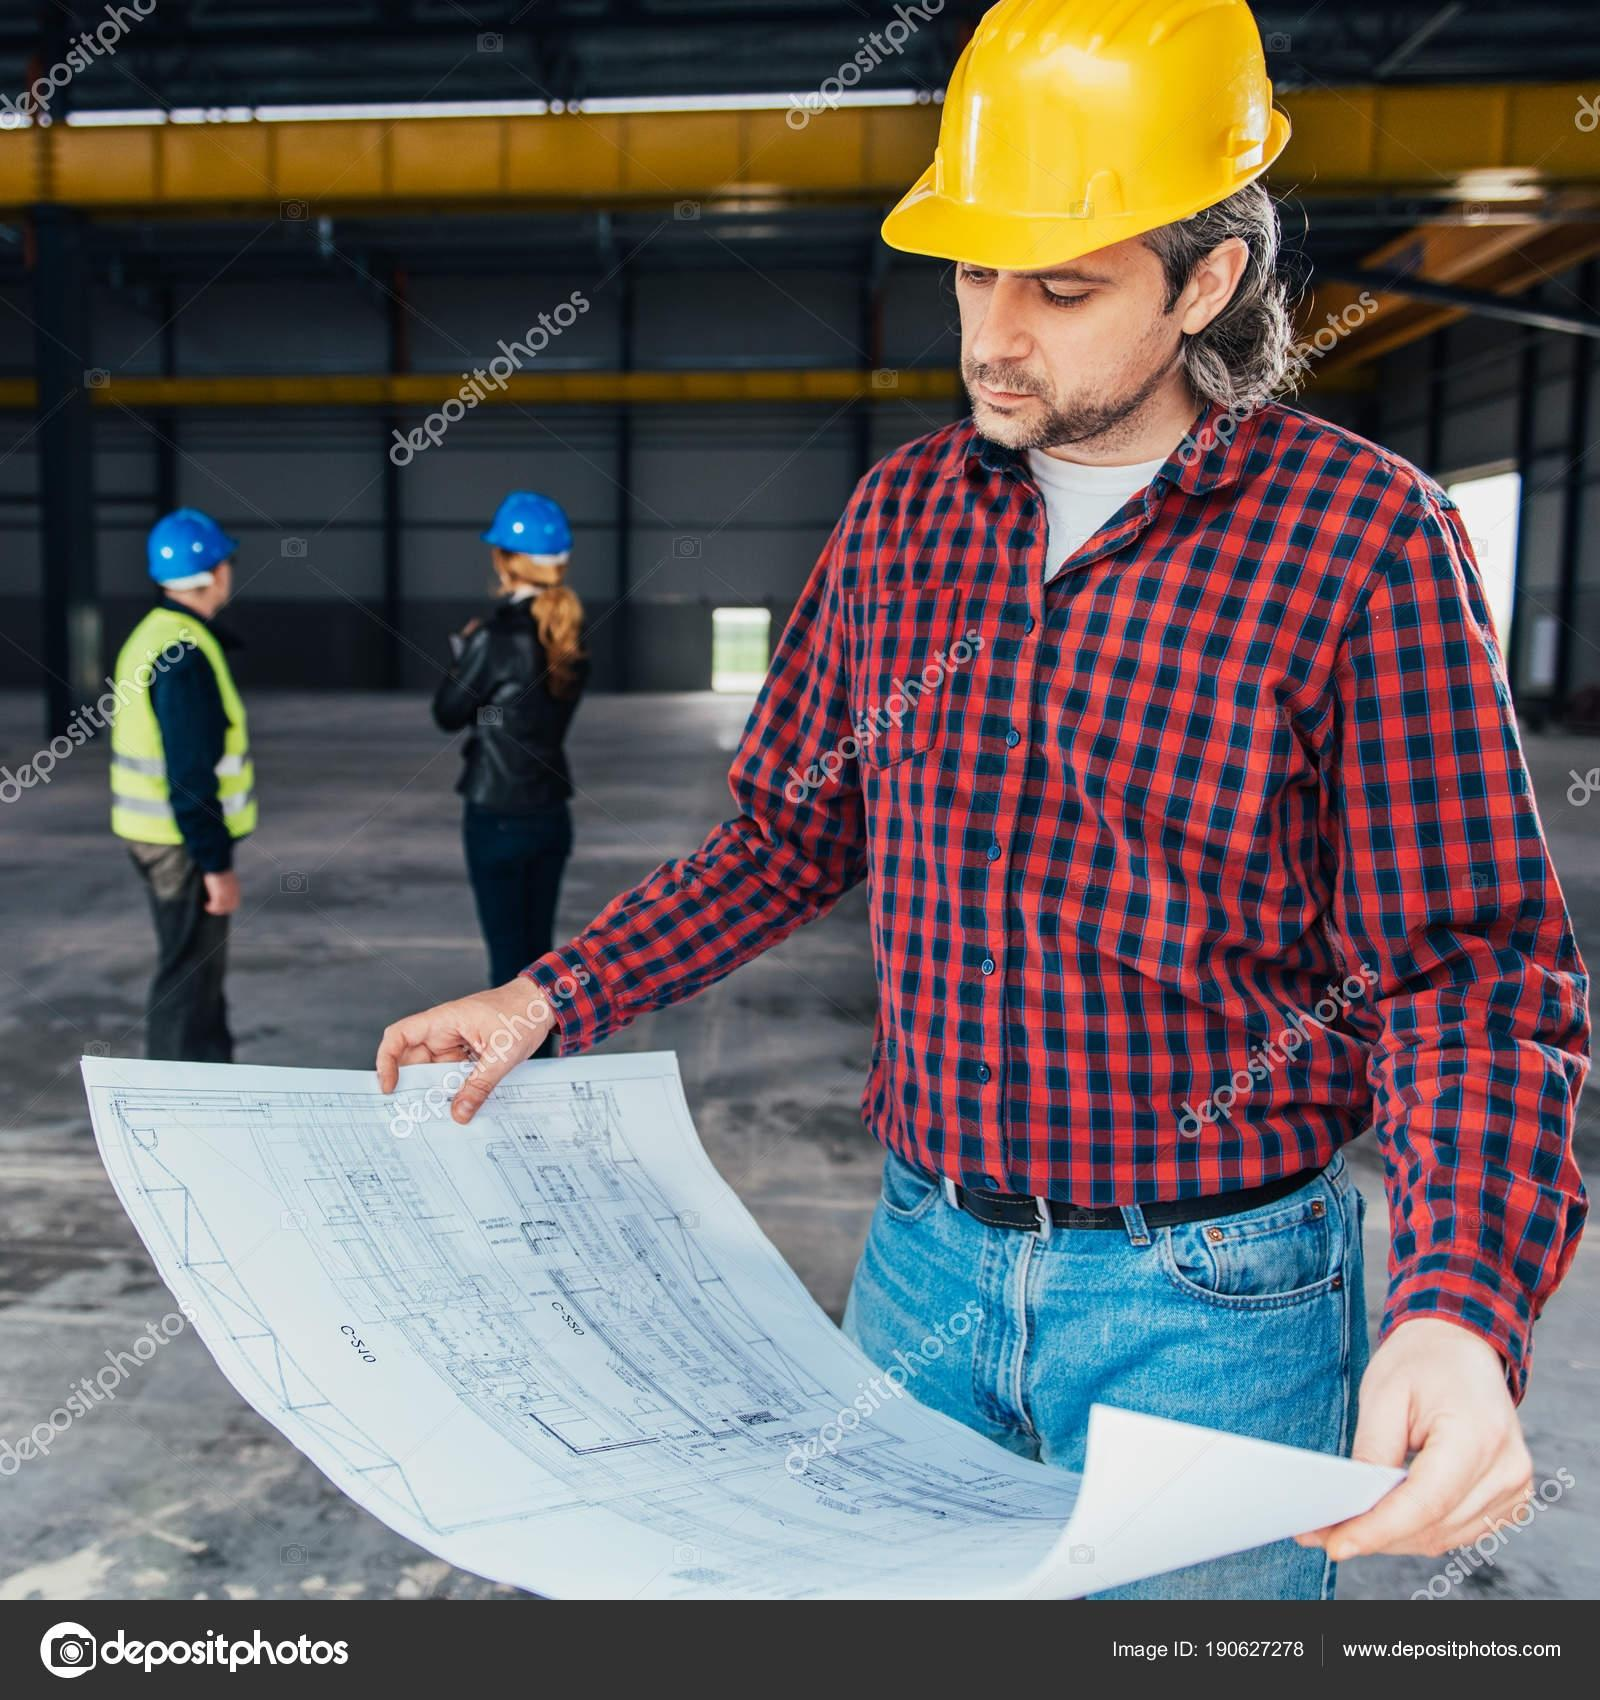helmet: (872, 2, 1287, 280), (146, 508, 238, 588), (487, 490, 576, 564)
no_wear: (850, 467, 1411, 1207), (1355, 1308, 1534, 1562), (445, 591, 577, 818)
wear: (113, 607, 269, 843)
